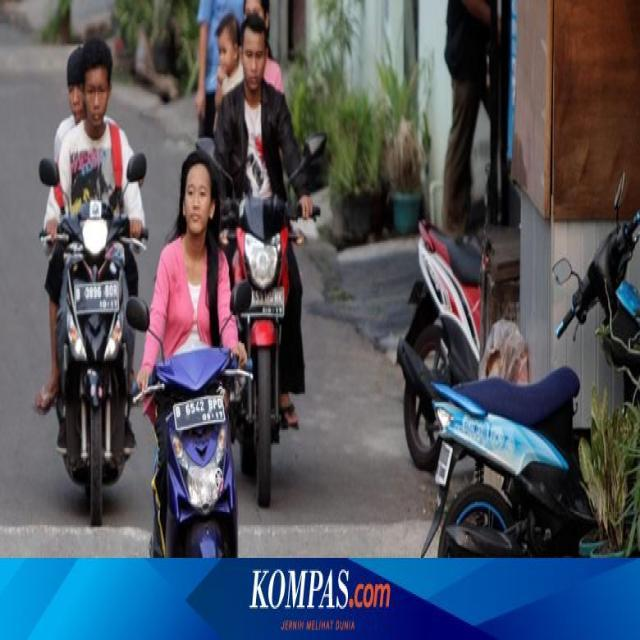Number Plate: (173, 396, 224, 430), (74, 281, 119, 314), (249, 287, 284, 315), (435, 442, 452, 485)
Rearview Mirror: (126, 297, 149, 331), (231, 280, 252, 315), (126, 153, 146, 182), (304, 133, 326, 159), (552, 258, 572, 284), (39, 159, 58, 186), (613, 171, 626, 210), (196, 137, 214, 157)
